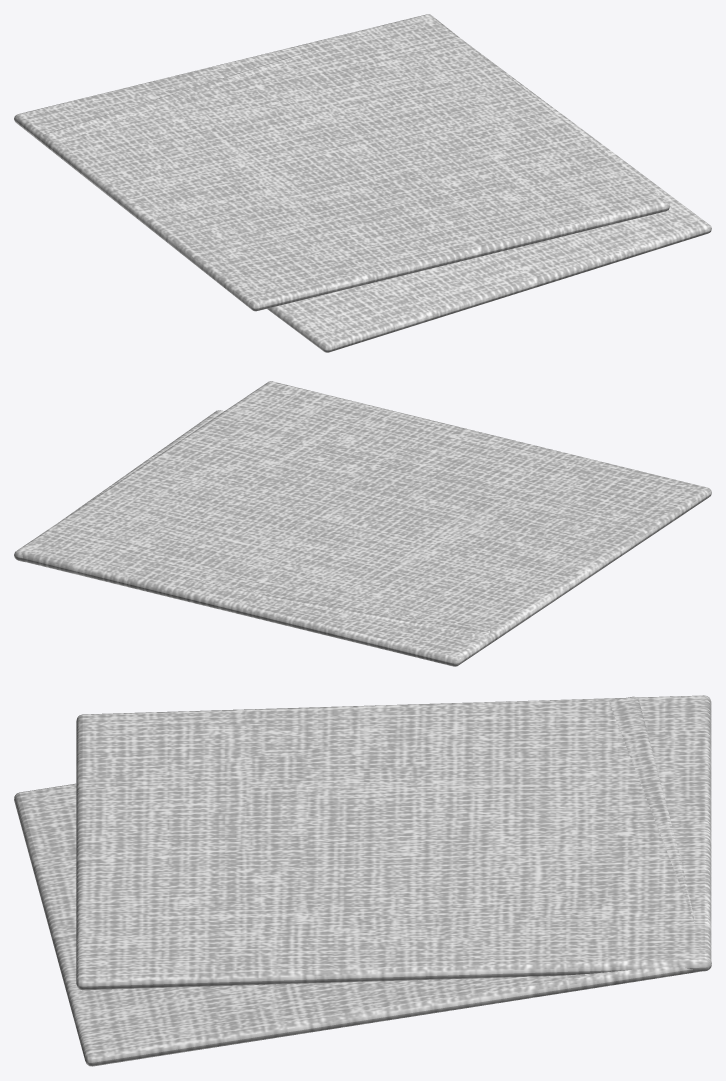
File: gauzeSwap.fbx
3 renders of one model, top to bottom at view 1: azimuth 30°, elevation 25°; view 2: azimuth 150°, elevation 25°; view 3: azimuth 270°, elevation 25°, orthographic. The views are drawn at different scales.
Visible parts, largest first — view 1: Plane, Plane.001; view 2: Plane, Plane.001; view 3: Plane, Plane.001.
Boxes of the visible parts, x1=… form: Plane: x1=14, y1=14, x2=669, y2=311; Plane.001: x1=43, y1=31, x2=711, y2=352; Plane: x1=14, y1=381, x2=711, y2=666; Plane.001: x1=15, y1=410, x2=490, y2=638; Plane: x1=76, y1=695, x2=711, y2=990; Plane.001: x1=14, y1=696, x2=711, y2=1066.
Size of the model in its own units: 11.08 by 1.35 by 10.99.
